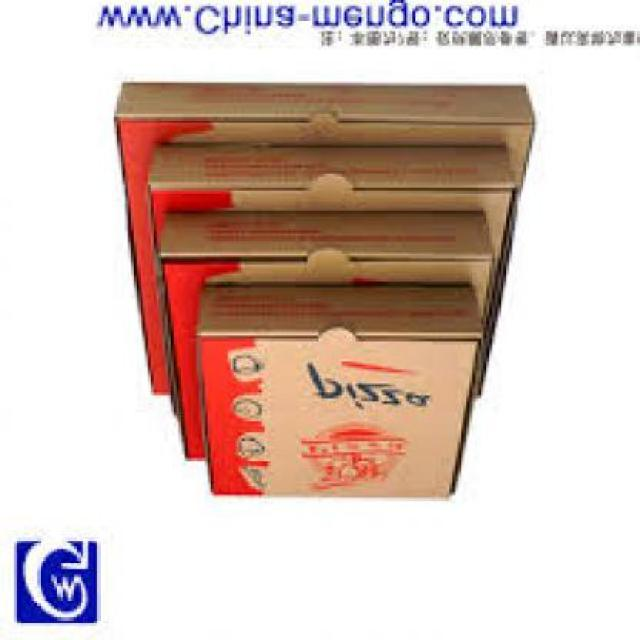CARDBOARD: (111, 82, 535, 398), (148, 142, 518, 421), (154, 214, 489, 463), (194, 285, 480, 500)
